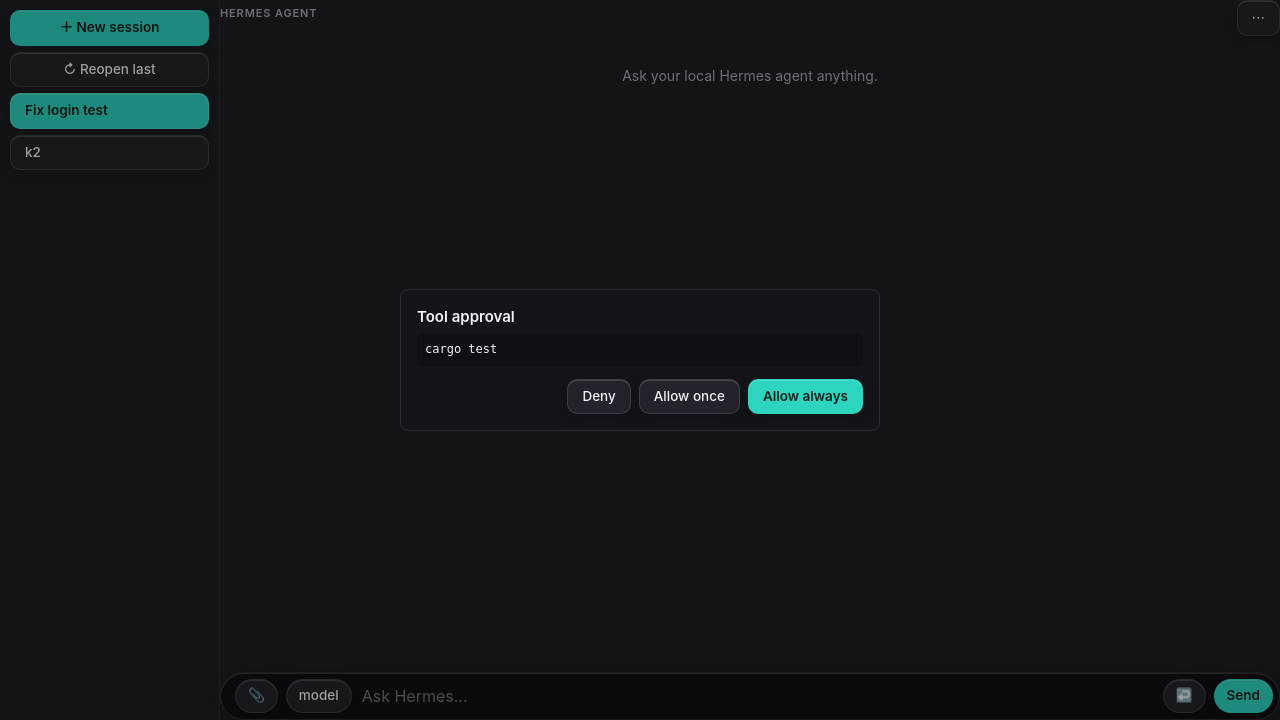
Test: HermesTab › shows a tool-approval dialog on approval.request; Deny responds and closes it
Expected: the text "cargo test" is shown, [417,333,863,367]
Click the button "Deny". click: (599, 397)
box: [567,379,631,414]
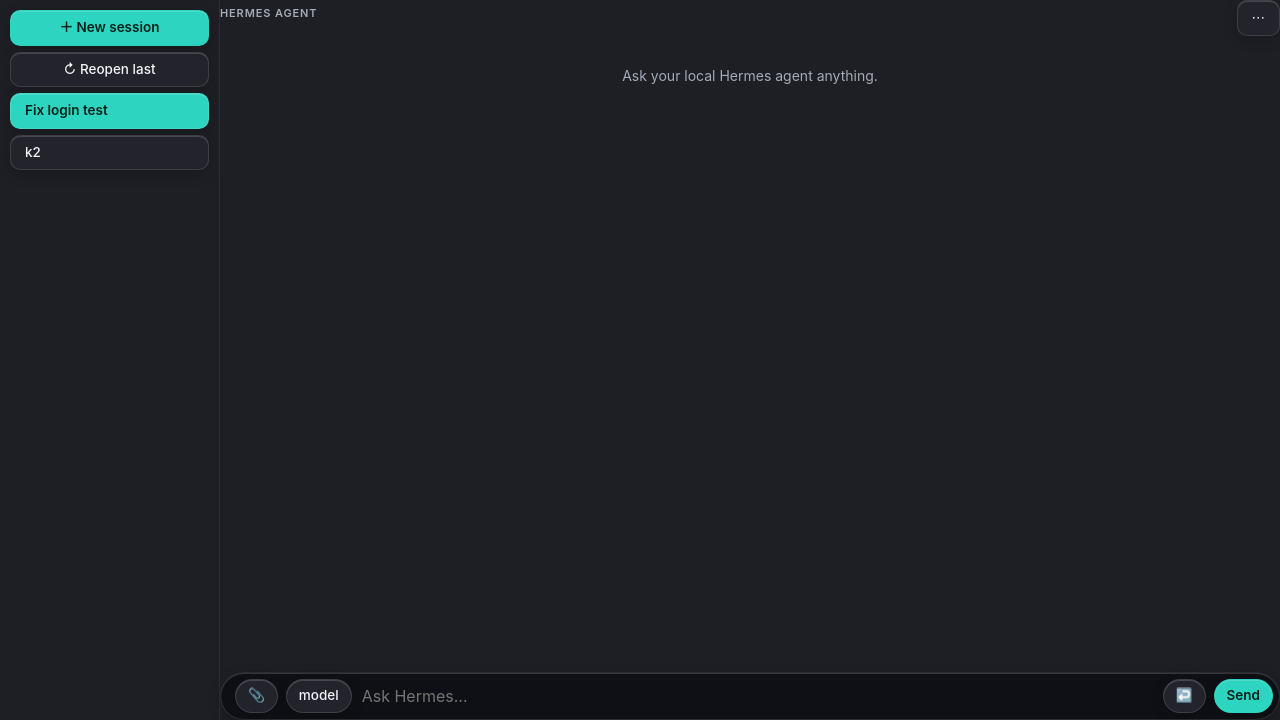
Now the text "cargo test" is gone
